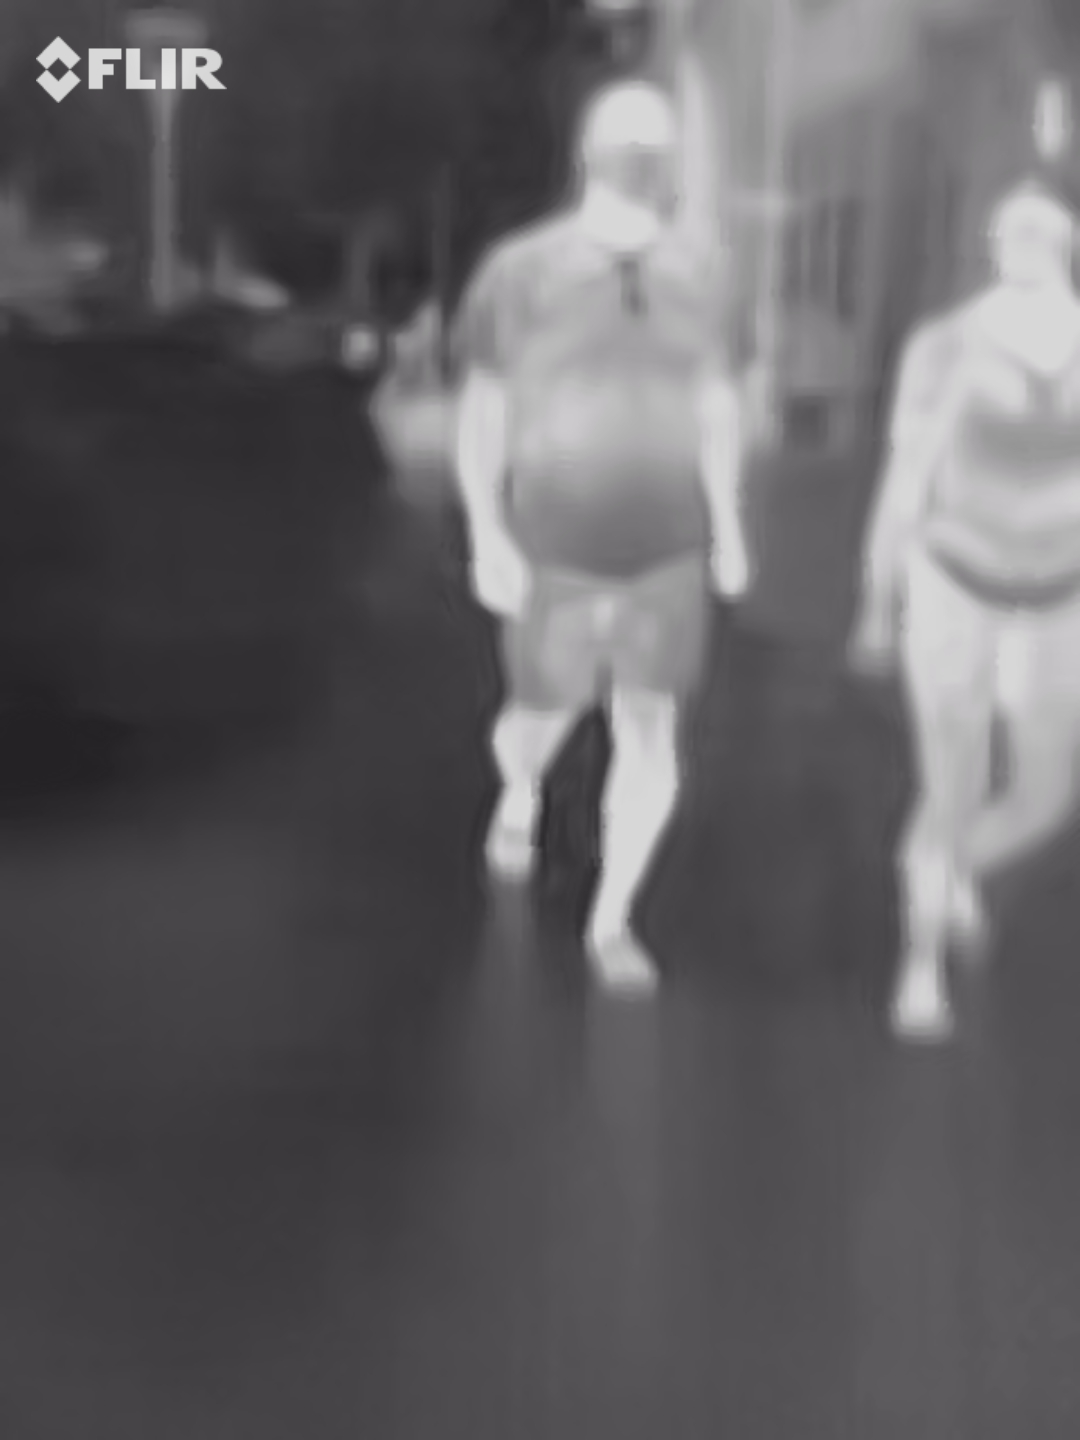head: (574, 75, 689, 222), (983, 180, 1080, 294)
